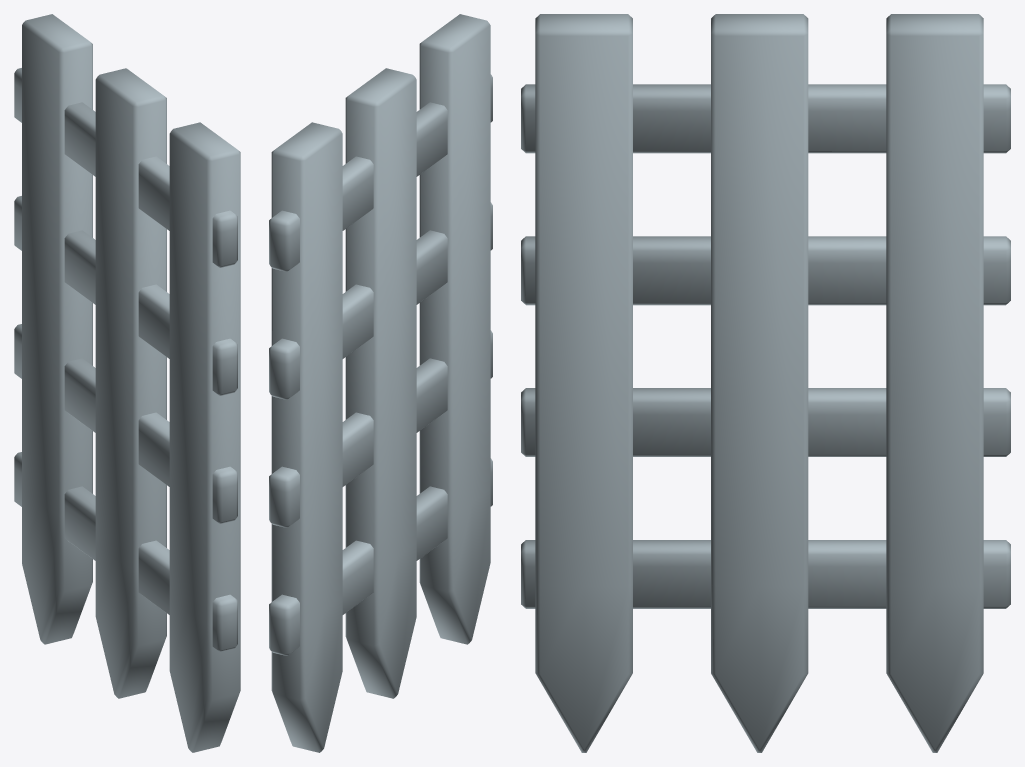
Rendered from door_grid.glb.
3 renders of one model, left to right at view 1: azimuth 30°, elevation 25°; view 2: azimuth 150°, elevation 25°; view 3: azimuth 270°, elevation 25°, orthographic. The views are drawn at different scales.
Parts seen in each view (by area): view 1: door_grid; view 2: door_grid; view 3: door_grid.
Part boxes in pixels (x1=…): door_grid: x1=14, y1=14, x2=240, y2=752; door_grid: x1=269, y1=14, x2=492, y2=752; door_grid: x1=521, y1=14, x2=1010, y2=752.
Size of the model in its own units: 0.4298 by 7.36 by 4.51.
